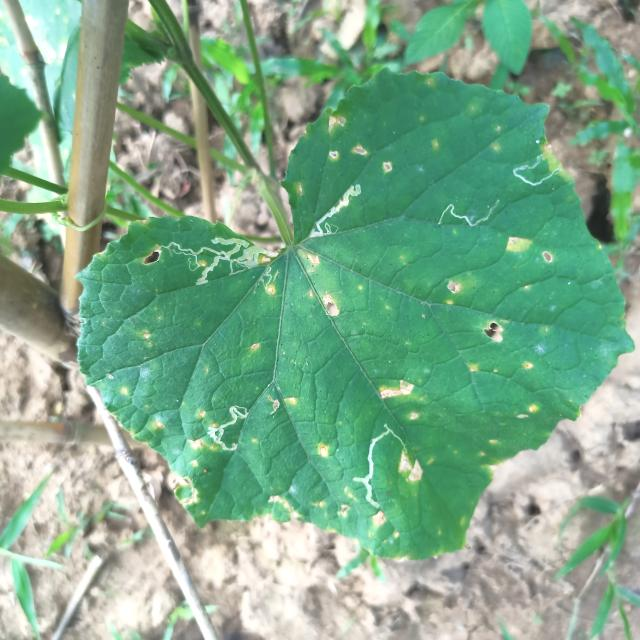disease_cucumber: (466, 313, 552, 377), (169, 402, 212, 506), (327, 115, 398, 174), (268, 487, 360, 523), (365, 511, 407, 561), (503, 232, 553, 270), (380, 378, 420, 420), (306, 288, 344, 322), (266, 389, 304, 414), (395, 452, 425, 482), (296, 249, 322, 275), (515, 398, 539, 422), (443, 278, 463, 306), (318, 440, 337, 462), (149, 414, 165, 432), (141, 330, 156, 348), (248, 338, 264, 354), (120, 384, 132, 397), (266, 286, 278, 296), (260, 255, 272, 264)
